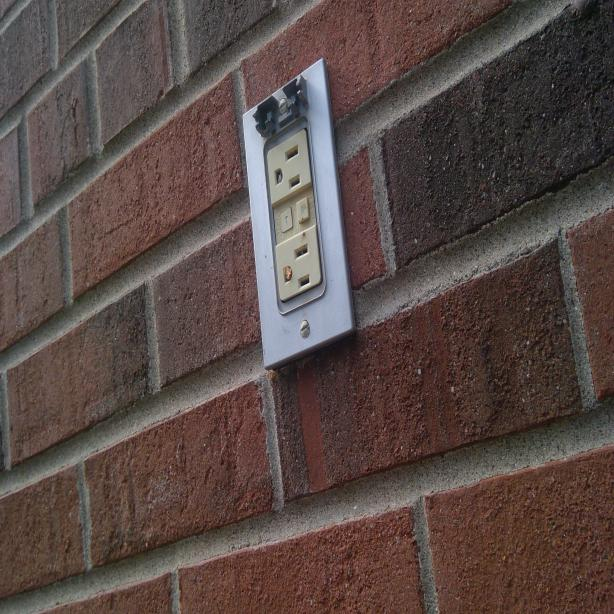typeb: (276, 232, 318, 295), (265, 139, 310, 196)
